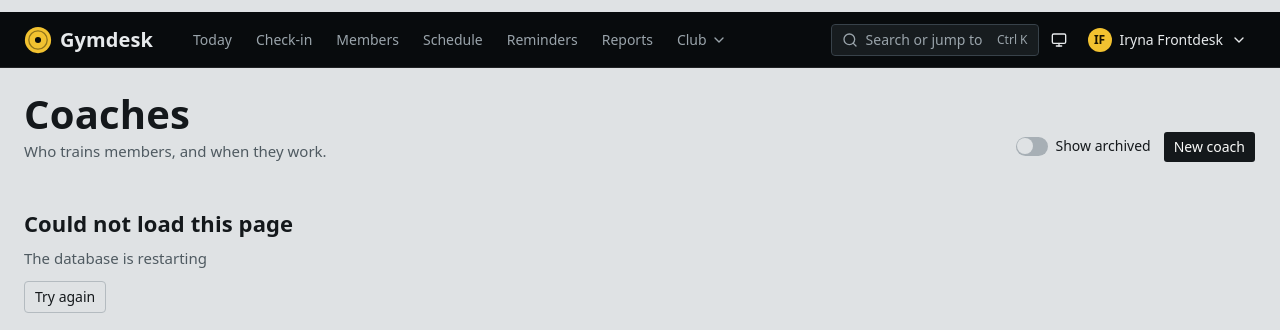
Test: coach list › explains a loading failure and retries
Expected: the heading "Coaches" is shown, [24, 86, 190, 141]
Expected: the text "The database is restarting" is shown, [24, 247, 207, 269]
Click the button "Try again": (65,297) [24, 281, 106, 313]
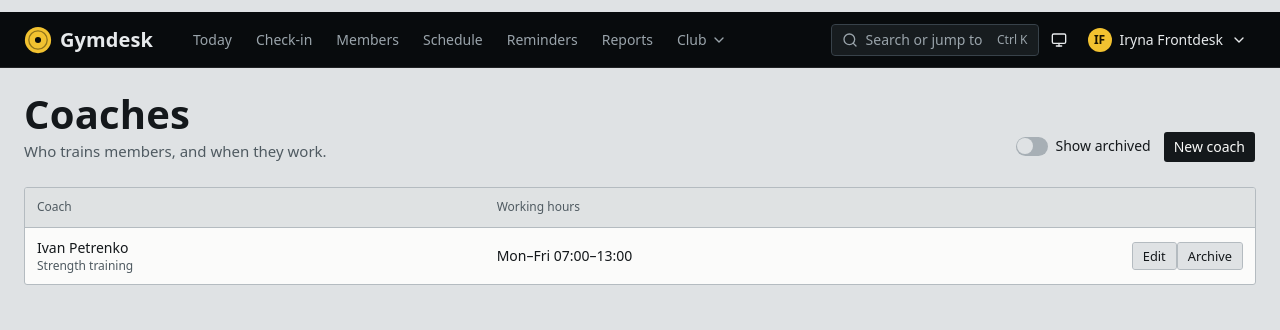
Now the link "Ivan Petrenko" is shown, box [37, 238, 128, 257]
